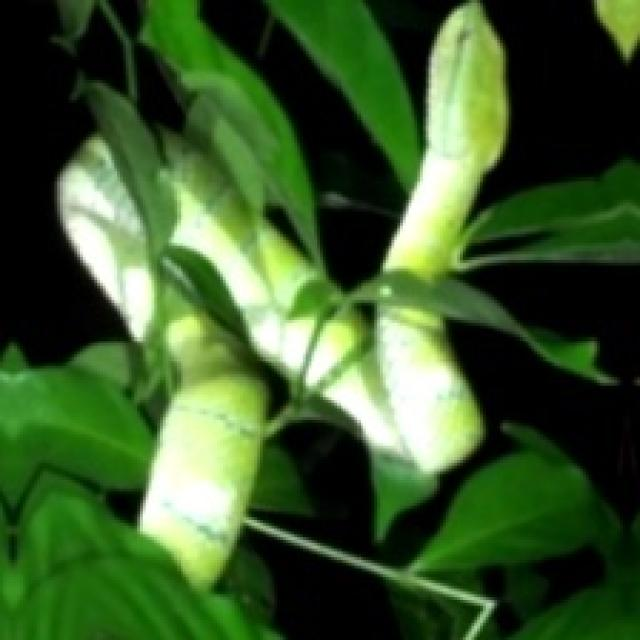north ph temple pitviper: (60, 0, 480, 586), (269, 0, 506, 280)
